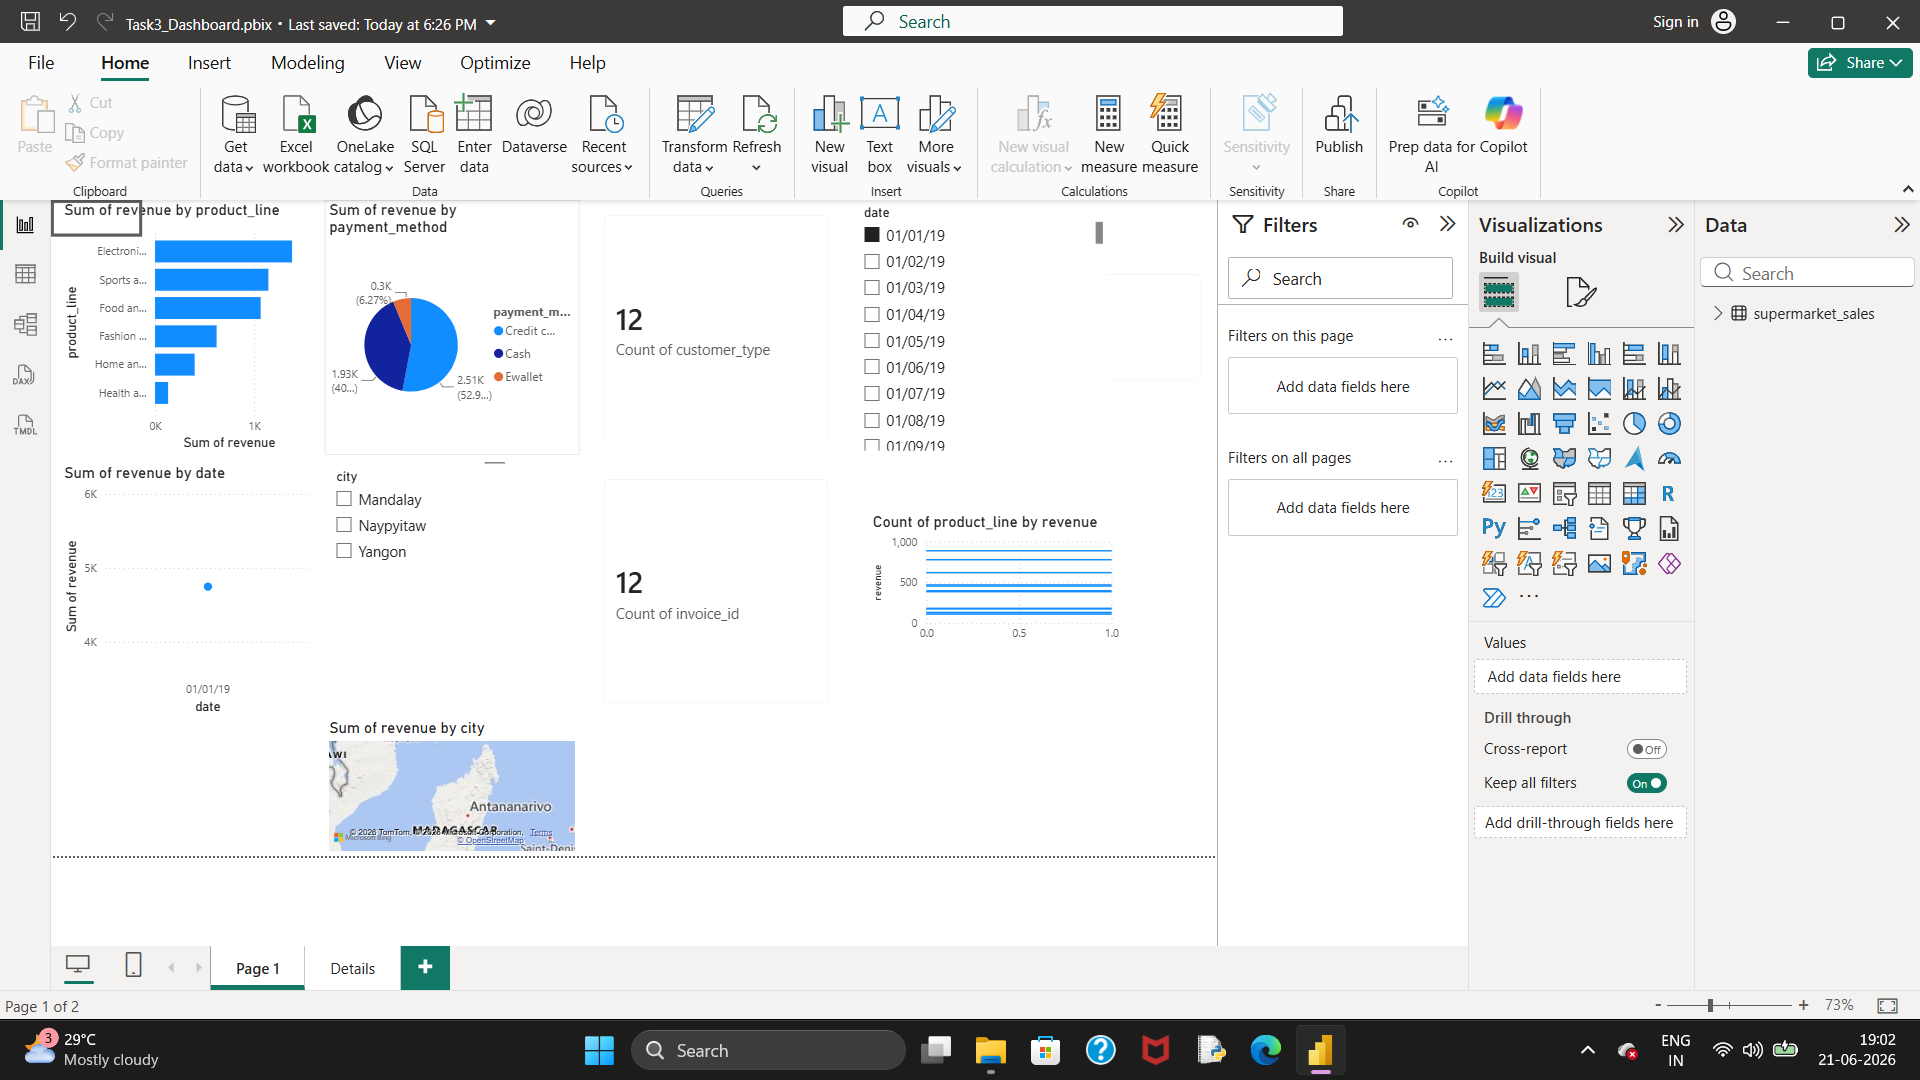

This screenshot's page, from the dashboard's own definition file:
{"tool":"powerbi","page":{"name":"Page 1","canvas":[1280,720],"ordinal":0},"visuals":[{"type":"clusteredBarChart","fields":{"Category":["supermarket_sales.product_line"],"Y":["Sum(supermarket_sales.revenue)"]},"box":[10,0,280,280],"z":0},{"type":"lineChart","fields":{"Category":["supermarket_sales.date"],"Y":["Sum(supermarket_sales.revenue)"]},"box":[10,290,280,280],"z":1000},{"type":"cardVisual","fields":{"Data":["Sum(supermarket_sales.revenue)"]},"box":[10,570,280,150],"z":2000},{"type":"pieChart","fields":{"Y":["Sum(supermarket_sales.revenue)"],"Category":["supermarket_sales.payment_method"]},"box":[300,0,280,280],"z":3000},{"type":"slicer","fields":{"Values":["supermarket_sales.city"]},"box":[300,290,280,280],"z":4000},{"type":"cardVisual","fields":{"Data":["CountNonNull(supermarket_sales.customer_type)"]},"box":[590,0,280,280],"z":5000},{"type":"cardVisual","fields":{"Data":["CountNonNull(supermarket_sales.invoice_id)"]},"box":[590,290,280,280],"z":6000},{"type":"barChart","fields":{"Y":["CountNonNull(supermarket_sales.product_line)"],"Category":["supermarket_sales.revenue"]},"box":[590,570,280,150],"z":7000},{"type":"map","fields":{"Category":["supermarket_sales.city"],"Size":["Sum(supermarket_sales.revenue)"]},"box":[300,570,280,150],"z":8000},{"type":"slicer","fields":{"Values":["supermarket_sales.date"]},"box":[880,0,280,280],"z":9000},{"type":"actionButton","box":[0,0,100,40],"z":10000},{"type":"actionButton","box":[0,0,100,40],"z":11000}]}

Visuals, with their boxes on the page's 1280x720 design canvas (x1, y1, x2, y2). These are canvas units, not pixel positions in the 1920x1080 screenshot, which may show the page scaled, cropped or inside an application window:
clusteredBarChart - supermarket_sales.product_line x Sum(supermarket_sales.revenue): BBox(10, 0, 290, 280)
lineChart - supermarket_sales.date x Sum(supermarket_sales.revenue): BBox(10, 290, 290, 570)
cardVisual - Sum(supermarket_sales.revenue): BBox(10, 570, 290, 720)
pieChart - Sum(supermarket_sales.revenue) x supermarket_sales.payment_method: BBox(300, 0, 580, 280)
slicer - supermarket_sales.city: BBox(300, 290, 580, 570)
cardVisual - CountNonNull(supermarket_sales.customer_type): BBox(590, 0, 870, 280)
cardVisual - CountNonNull(supermarket_sales.invoice_id): BBox(590, 290, 870, 570)
barChart - CountNonNull(supermarket_sales.product_line) x supermarket_sales.revenue: BBox(590, 570, 870, 720)
map - supermarket_sales.city x Sum(supermarket_sales.revenue): BBox(300, 570, 580, 720)
slicer - supermarket_sales.date: BBox(880, 0, 1160, 280)
actionButton: BBox(0, 0, 100, 40)
actionButton: BBox(0, 0, 100, 40)
